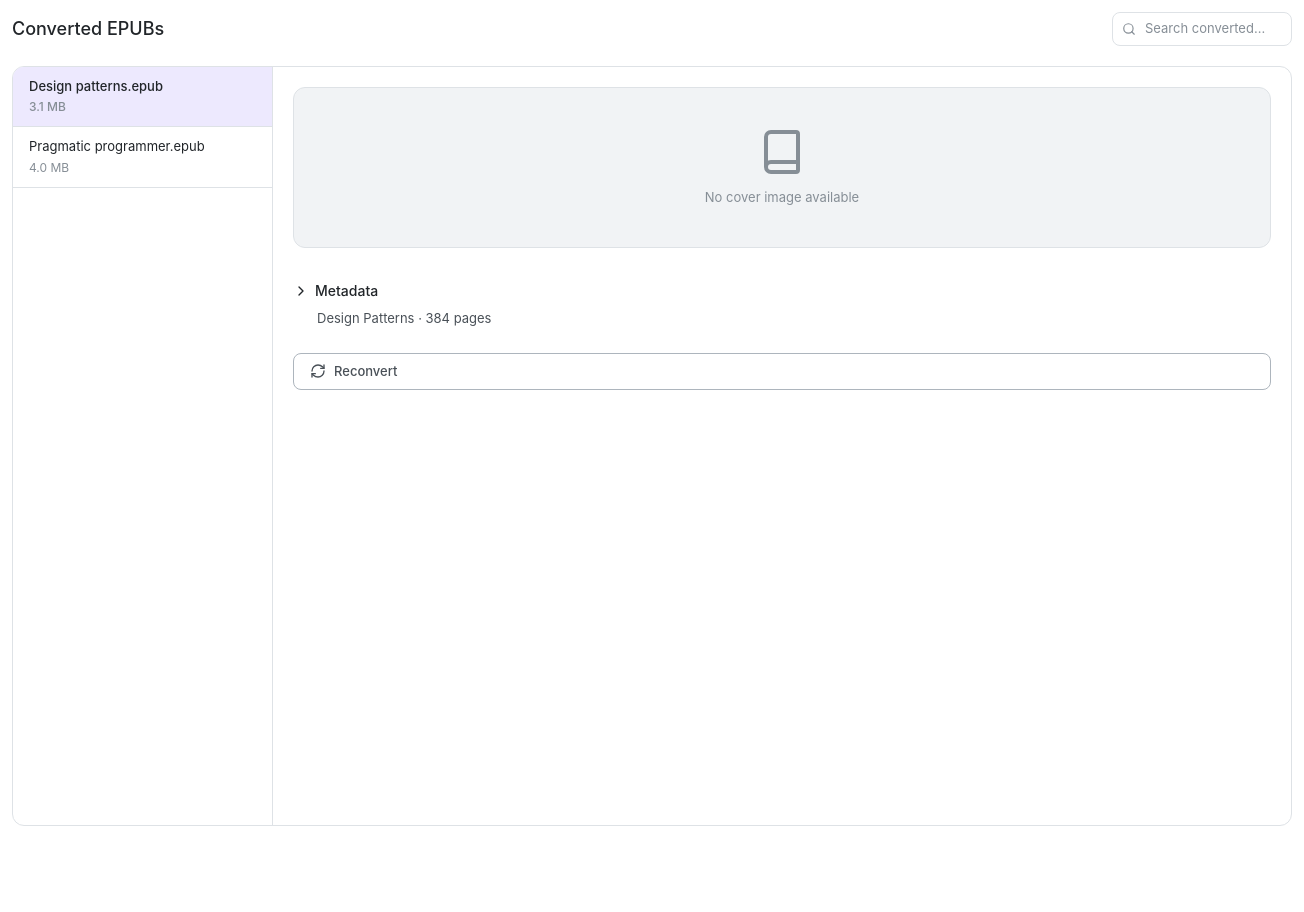
Test: ConvertedScreen › switches detail panel when a different EPUB is clicked
What coordinates should you click on to do the following:
click the text "Pragmatic programmer.epub"
I would click on:
 (117, 146)
Its box is [29,138,205,154].
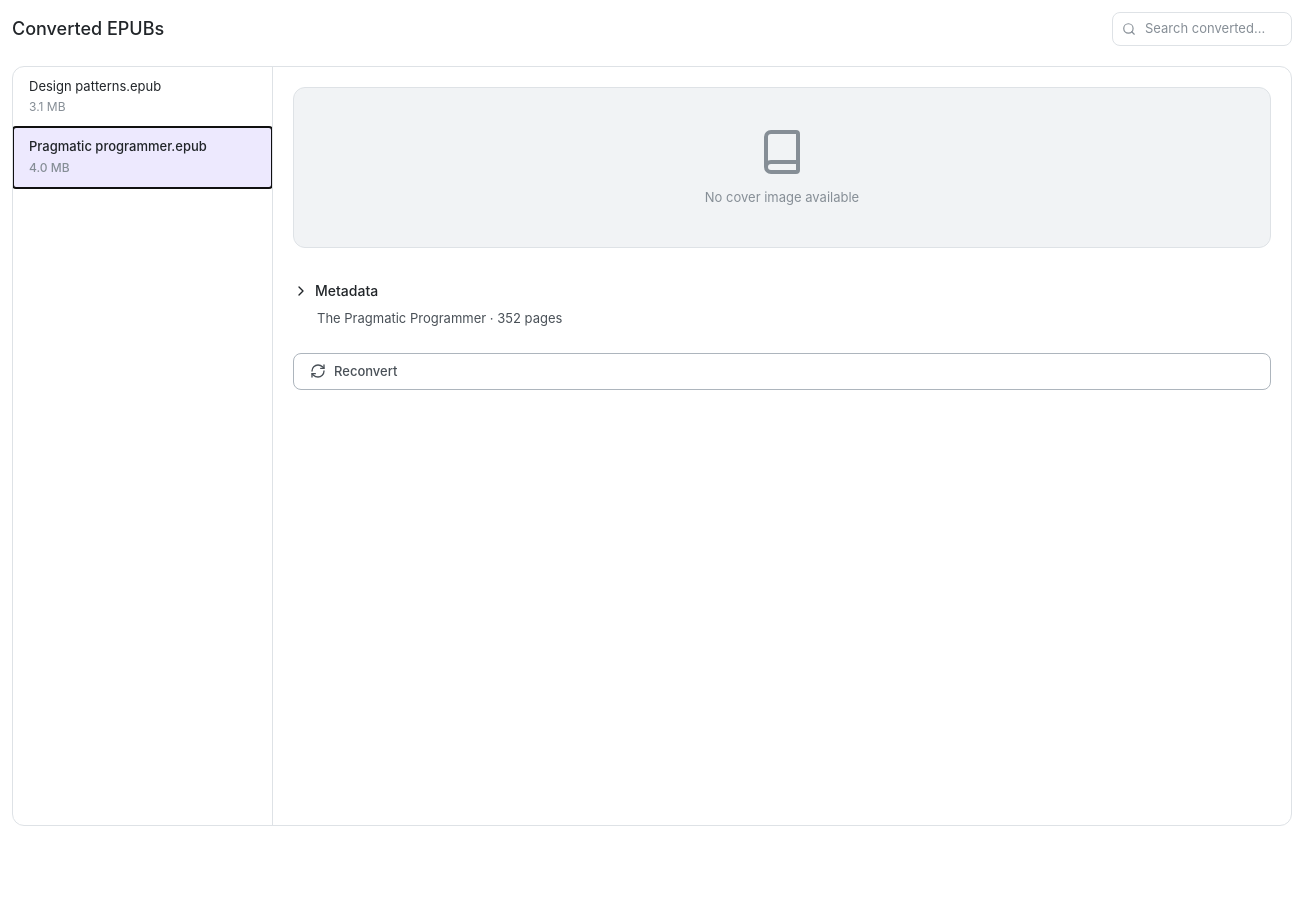
Expected: the text "The Pragmatic Programmer · 352 pages" is shown, [317,310,562,326]
